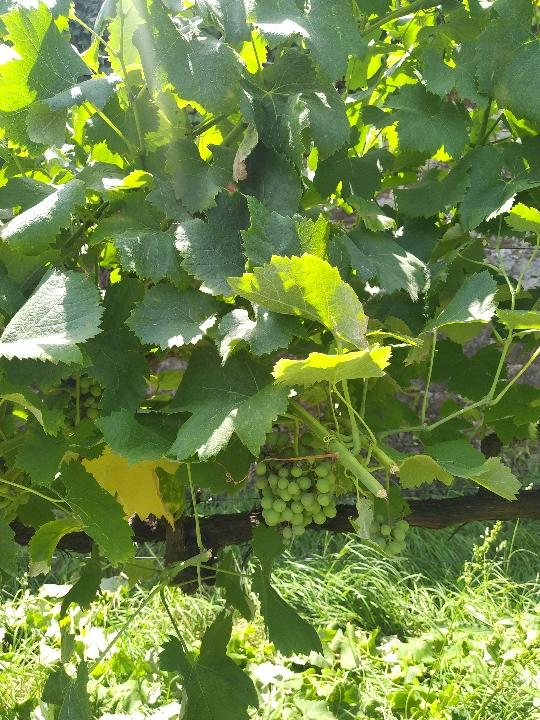grape: (253, 429, 337, 547)
